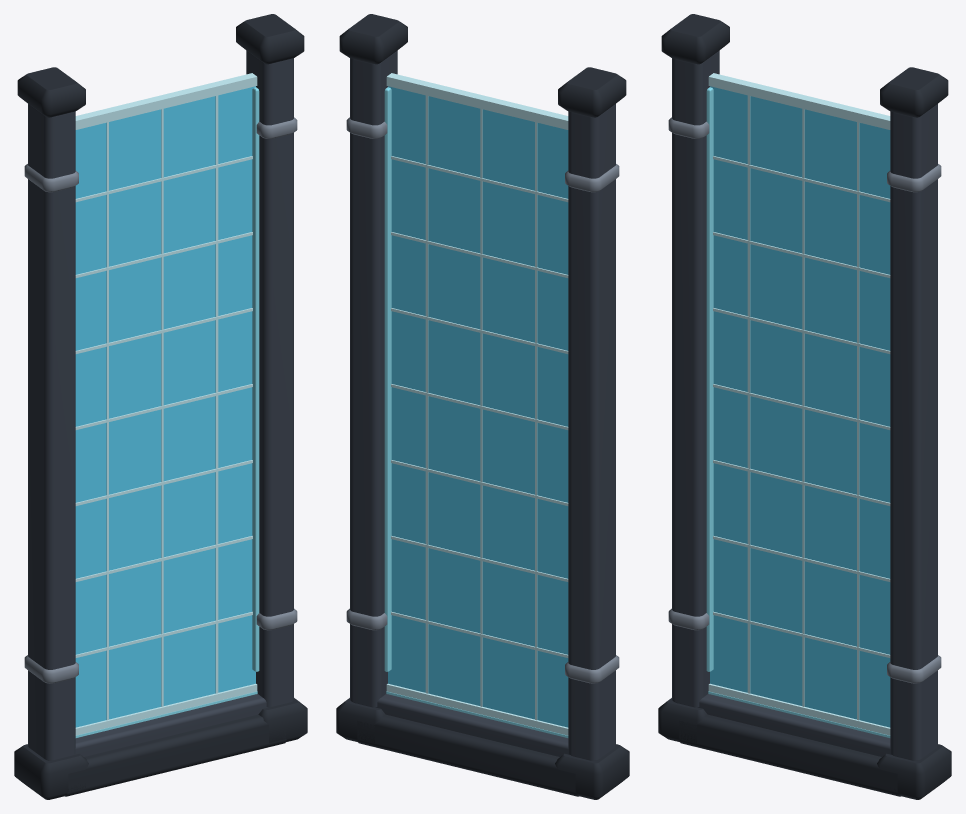
The model's file is barriere_holographique.glb.
3 views of the same model, side by side, from view 1: azimuth 30°, elevation 25°; view 2: azimuth 150°, elevation 25°; view 3: azimuth 330°, elevation 25° (orthographic).
Parts seen in each view (by area): view 1: holo_mur_holo_cyan.002, poteau_g_emetteur.002, poteau_d_emetteur.002, holo_mur_holo_clair.002, barriere_emetteur_bord.002, poteau_g_emetteur_bord.002, poteau_d_lentille.002, poteau_d_emetteur_bord.002, barriere_emetteur.002, poteau_g_emetteur_clair.002, poteau_d_emetteur_clair.002, barriere_lentille.002; view 2: holo_mur_holo_cyan.002, poteau_g_emetteur.002, poteau_d_emetteur.002, holo_mur_holo_clair.002, barriere_emetteur_bord.002, poteau_g_emetteur_bord.002, poteau_d_lentille.002, barriere_emetteur.002, poteau_d_emetteur_bord.002, poteau_g_emetteur_clair.002, poteau_d_emetteur_clair.002, barriere_lentille.002; view 3: holo_mur_holo_cyan.002, poteau_d_emetteur.002, poteau_g_emetteur.002, holo_mur_holo_clair.002, barriere_emetteur_bord.002, poteau_d_emetteur_bord.002, poteau_g_lentille.002, barriere_emetteur.002, poteau_g_emetteur_bord.002, poteau_d_emetteur_clair.002, poteau_g_emetteur_clair.002, barriere_lentille.002.
Part boxes in pixels (x1=…): holo_mur_holo_cyan.002: x1=75, y1=86, x2=255, y2=727; poteau_g_emetteur.002: x1=28, y1=104, x2=75, y2=760; poteau_d_emetteur.002: x1=246, y1=50, x2=293, y2=707; holo_mur_holo_clair.002: x1=75, y1=73, x2=257, y2=735; barriere_emetteur_bord.002: x1=64, y1=714, x2=286, y2=796; poteau_g_emetteur_bord.002: x1=14, y1=67, x2=88, y2=799; poteau_d_lentille.002: x1=252, y1=87, x2=259, y2=671; poteau_d_emetteur_bord.002: x1=236, y1=14, x2=307, y2=742; barriere_emetteur.002: x1=74, y1=694, x2=268, y2=756; poteau_g_emetteur_clair.002: x1=24, y1=164, x2=78, y2=683; poteau_d_emetteur_clair.002: x1=256, y1=117, x2=297, y2=630; barriere_lentille.002: x1=75, y1=691, x2=257, y2=737; holo_mur_holo_cyan.002: x1=388, y1=86, x2=568, y2=727; poteau_g_emetteur.002: x1=568, y1=104, x2=615, y2=760; poteau_d_emetteur.002: x1=350, y1=50, x2=397, y2=707; holo_mur_holo_clair.002: x1=386, y1=73, x2=568, y2=735; barriere_emetteur_bord.002: x1=357, y1=714, x2=579, y2=796; poteau_g_emetteur_bord.002: x1=555, y1=67, x2=629, y2=799; poteau_d_lentille.002: x1=384, y1=87, x2=391, y2=671; barriere_emetteur.002: x1=375, y1=694, x2=569, y2=756; poteau_d_emetteur_bord.002: x1=336, y1=14, x2=407, y2=742; poteau_g_emetteur_clair.002: x1=565, y1=164, x2=619, y2=683; poteau_d_emetteur_clair.002: x1=346, y1=117, x2=387, y2=630; barriere_lentille.002: x1=386, y1=691, x2=568, y2=737; holo_mur_holo_cyan.002: x1=710, y1=86, x2=890, y2=727; poteau_d_emetteur.002: x1=890, y1=104, x2=937, y2=760; poteau_g_emetteur.002: x1=672, y1=50, x2=719, y2=707; holo_mur_holo_clair.002: x1=708, y1=73, x2=890, y2=735; barriere_emetteur_bord.002: x1=679, y1=714, x2=901, y2=796; poteau_d_emetteur_bord.002: x1=877, y1=67, x2=951, y2=799; poteau_g_lentille.002: x1=706, y1=87, x2=713, y2=671; barriere_emetteur.002: x1=697, y1=694, x2=891, y2=756; poteau_g_emetteur_bord.002: x1=658, y1=14, x2=729, y2=742; poteau_d_emetteur_clair.002: x1=887, y1=164, x2=941, y2=683; poteau_g_emetteur_clair.002: x1=668, y1=117, x2=709, y2=630; barriere_lentille.002: x1=708, y1=691, x2=890, y2=737.
Bounding box in the file's own units: 0.61 × 1.55 × 0.13.
